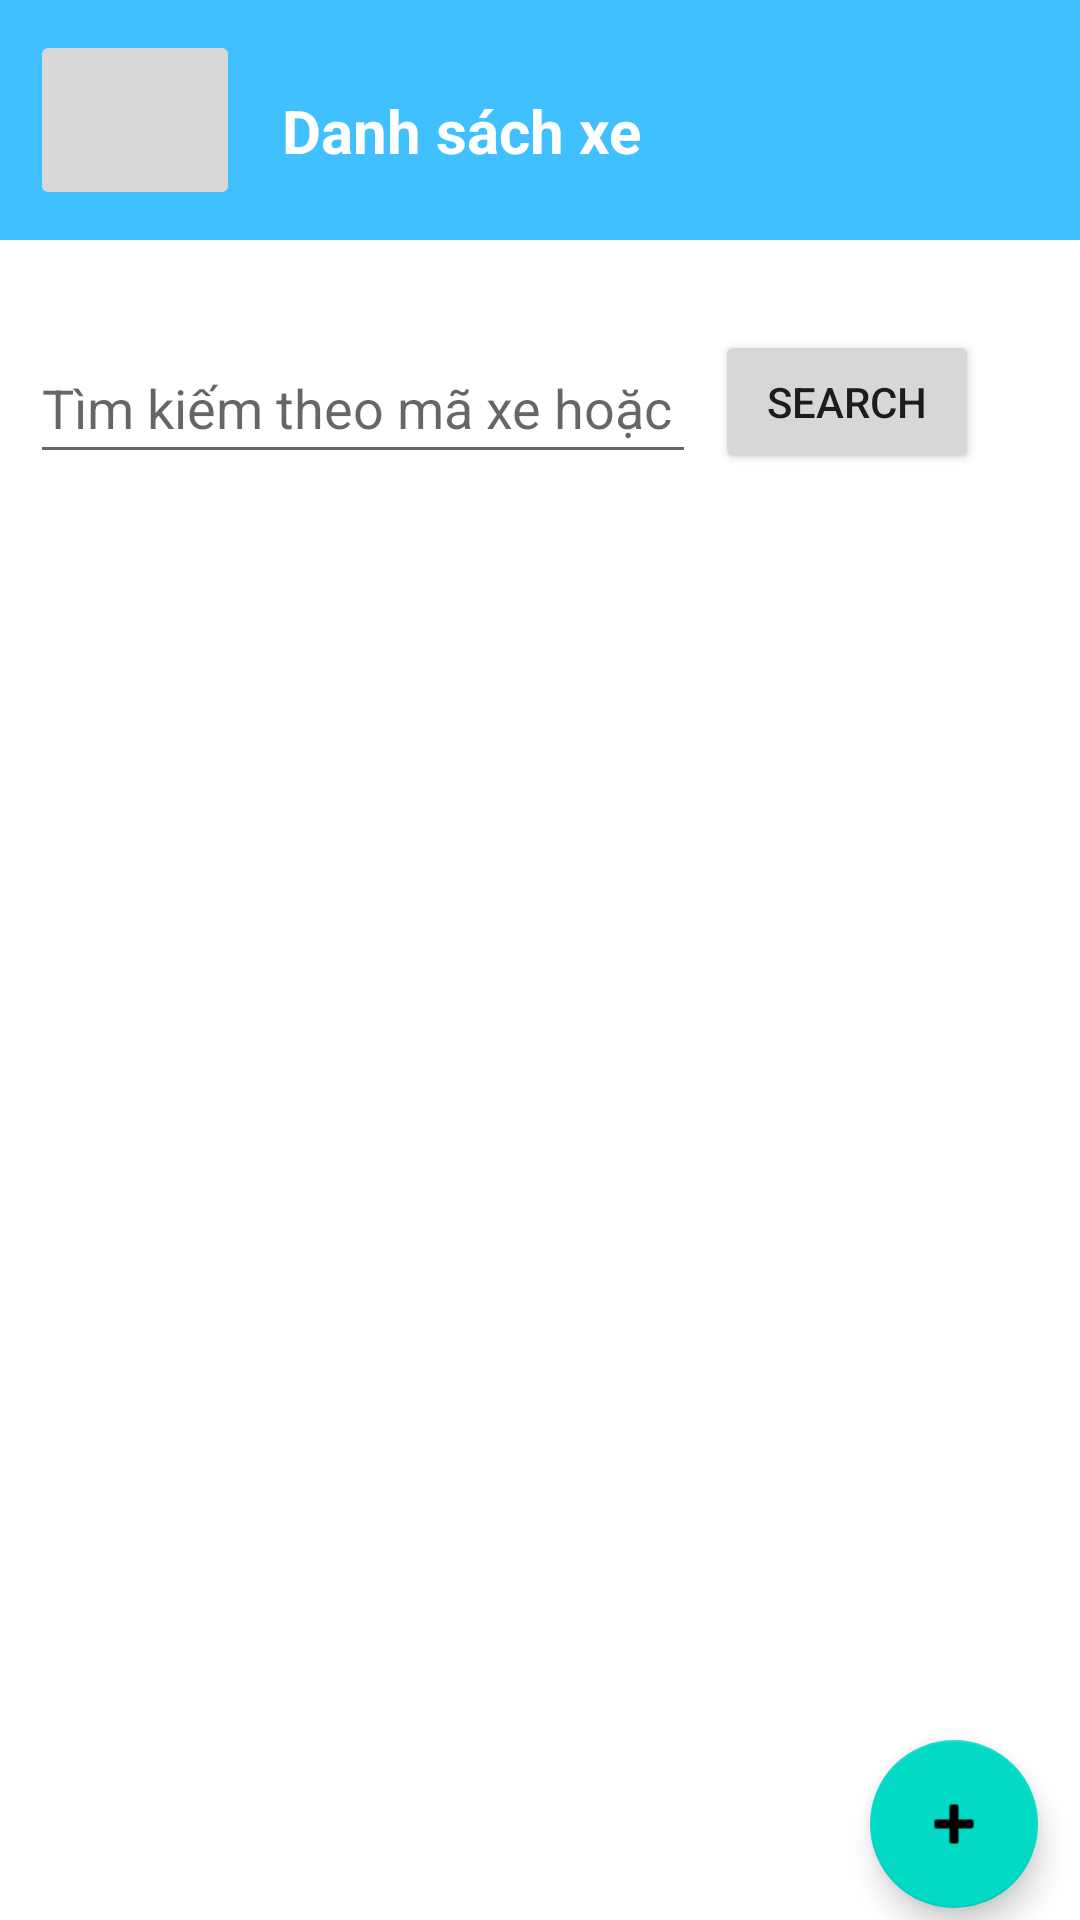

Where to tap for icons on this 1080x1920 app screen, as (x,y):
add: (954,1824)
